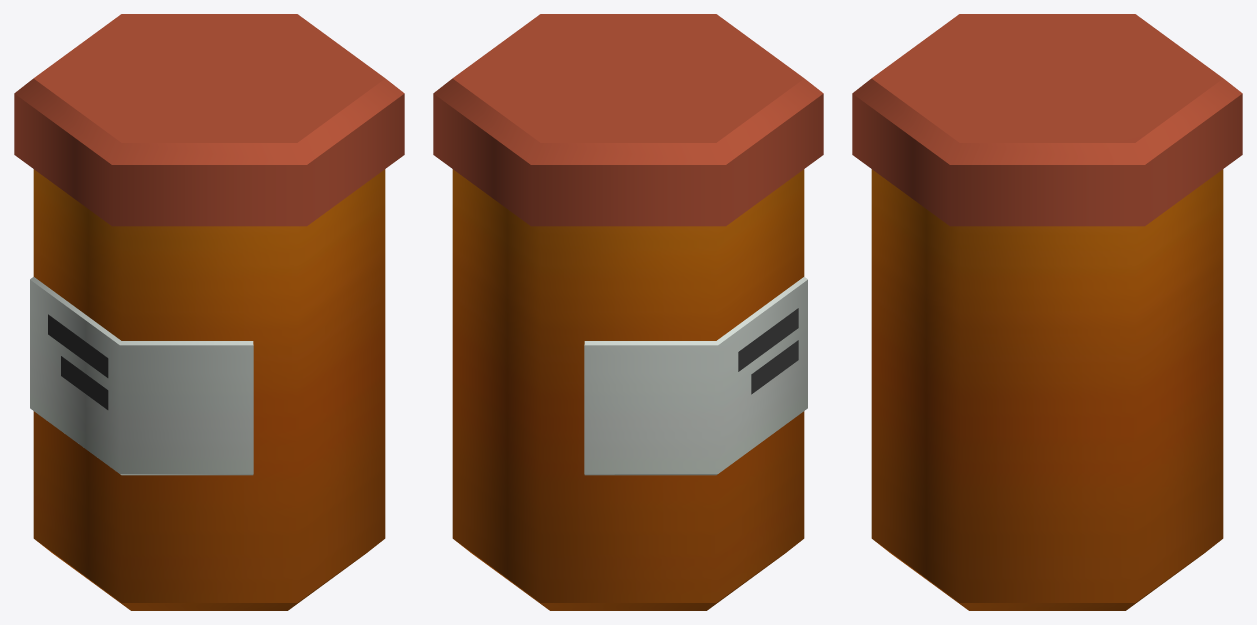
File: Jar_3_D.fbx
3 renders of one model, left to right at view 1: azimuth 30°, elevation 25°; view 2: azimuth 150°, elevation 25°; view 3: azimuth 270°, elevation 25°, orthographic.
Visible parts, largest first — view 1: Jar_3_D; view 2: Jar_3_D; view 3: Jar_3_D.
Boxes of the visible parts, bbox=[...] form: Jar_3_D: bbox=[14, 14, 404, 610]; Jar_3_D: bbox=[433, 14, 823, 610]; Jar_3_D: bbox=[852, 14, 1242, 610].
Bounding box in the file's own units: 17.99 × 27.9 × 20.77.
